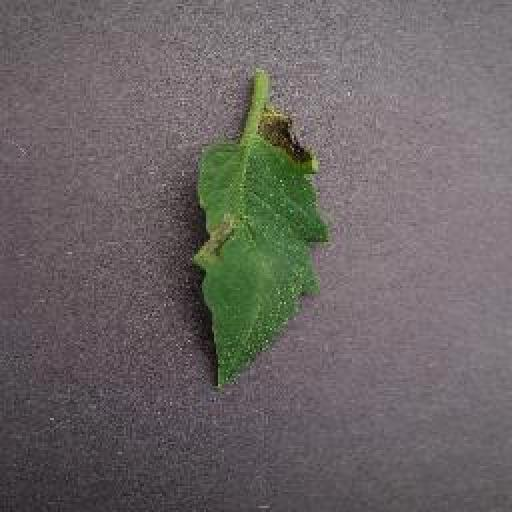disease_tomato: (189, 108, 335, 394)
